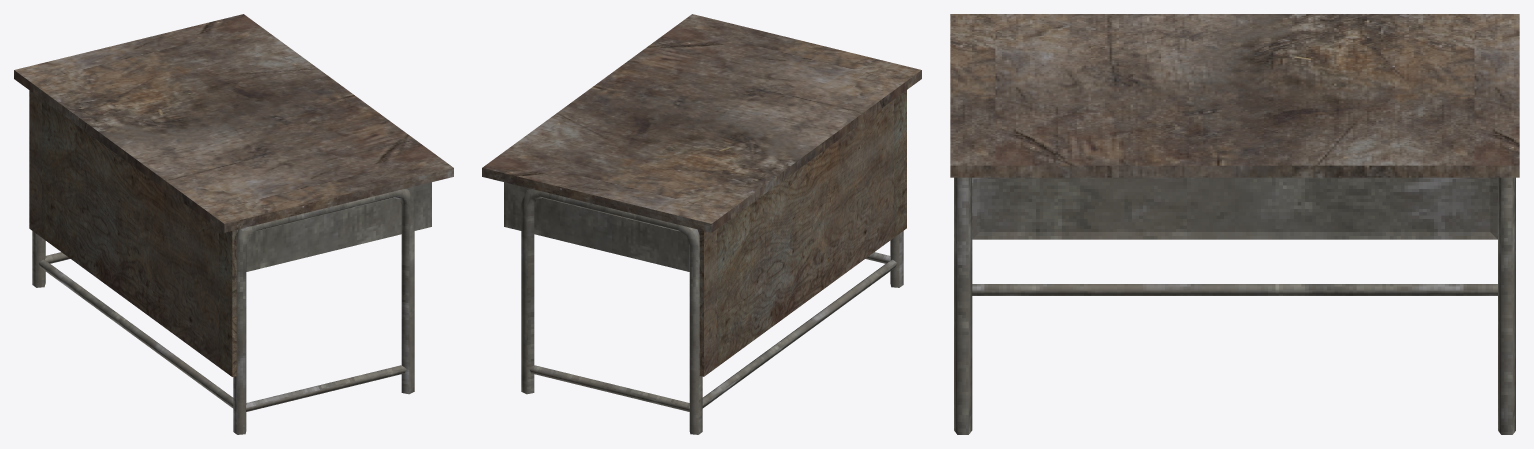
The model's file is _TeacherTable_1.FBX.
The picture shows the model from 3 angles, left to right: view 1: azimuth 30°, elevation 25°; view 2: azimuth 150°, elevation 25°; view 3: azimuth 270°, elevation 25°; orthographic projection. The views are drawn at different scales.
Visible parts, largest first — view 1: _TeacherTable_1; view 2: _TeacherTable_1; view 3: _TeacherTable_1.
Boxes of the visible parts, x1,y1,x2,y2 form: _TeacherTable_1: [14, 14, 453, 434]; _TeacherTable_1: [482, 14, 921, 434]; _TeacherTable_1: [950, 14, 1519, 434].
Size of the model in its own units: 93.63 by 84.49 by 148.
3 materials, 3 textured.
